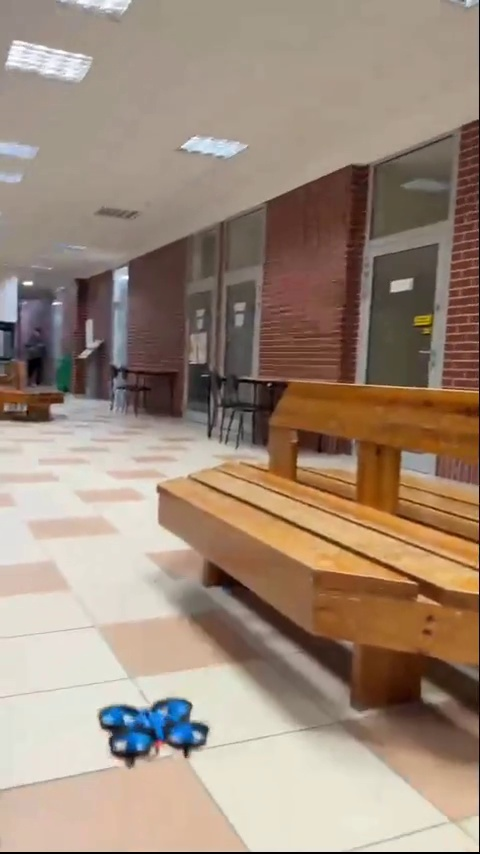drone: (98, 703, 203, 754)
no vest: (20, 316, 51, 390)
